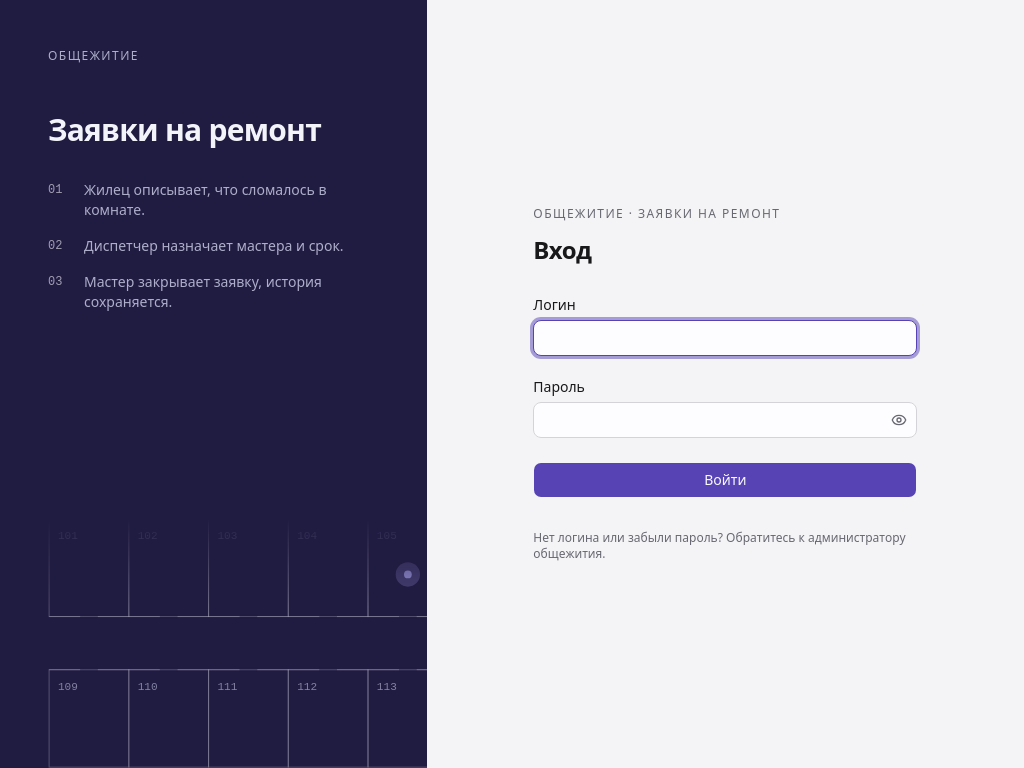
Test: shows network error when the server is unreachable
Step 1. Type "ivan" into the field labelled "Логин" → (725, 338), box left=533, top=320, right=917, bottom=356
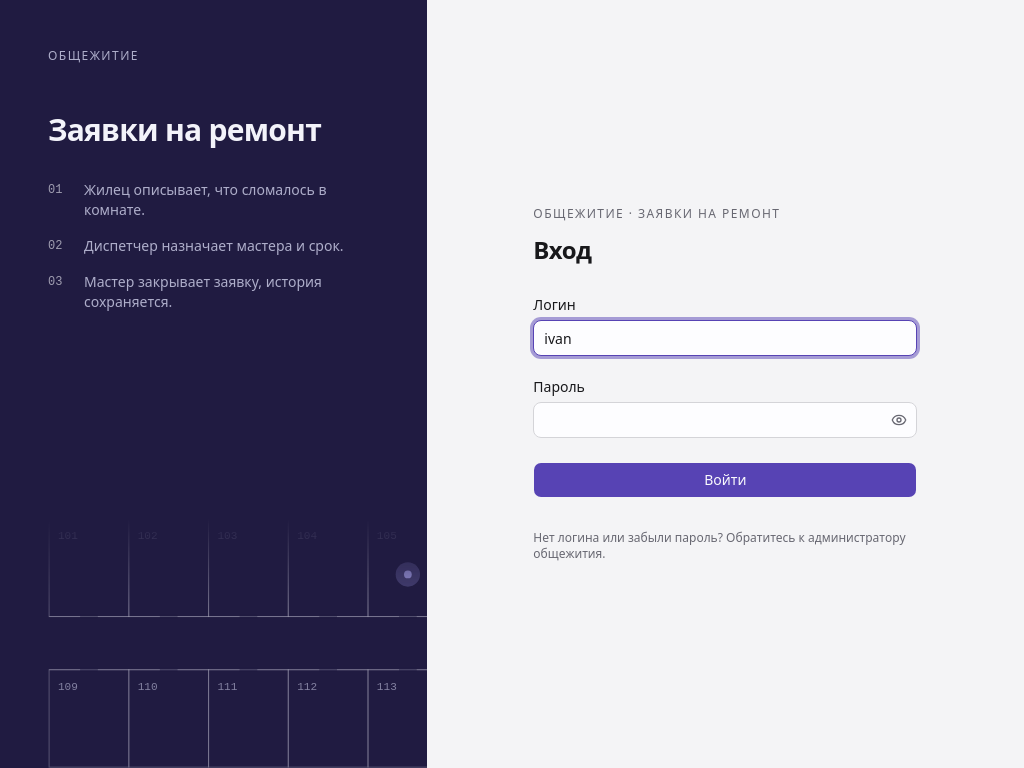
Step 2. Type "secret" into the password field labelled "Пароль" → (725, 420), box left=533, top=402, right=917, bottom=438
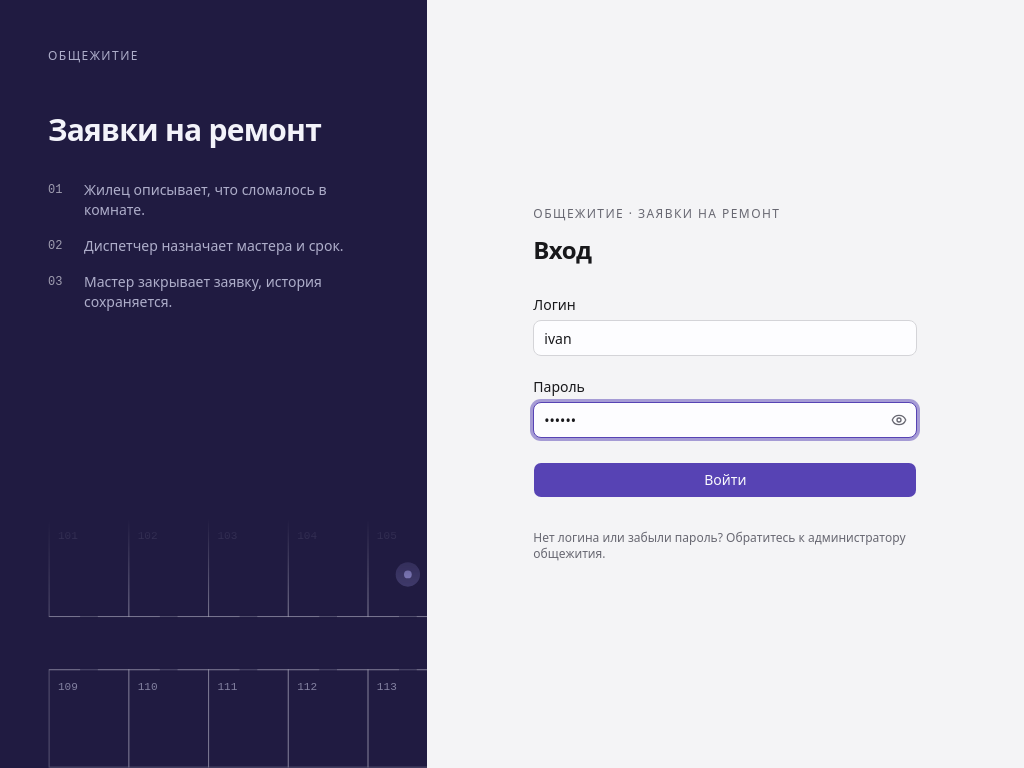
Step 3. Click the button "Войти" → (725, 480), box left=533, top=462, right=917, bottom=498
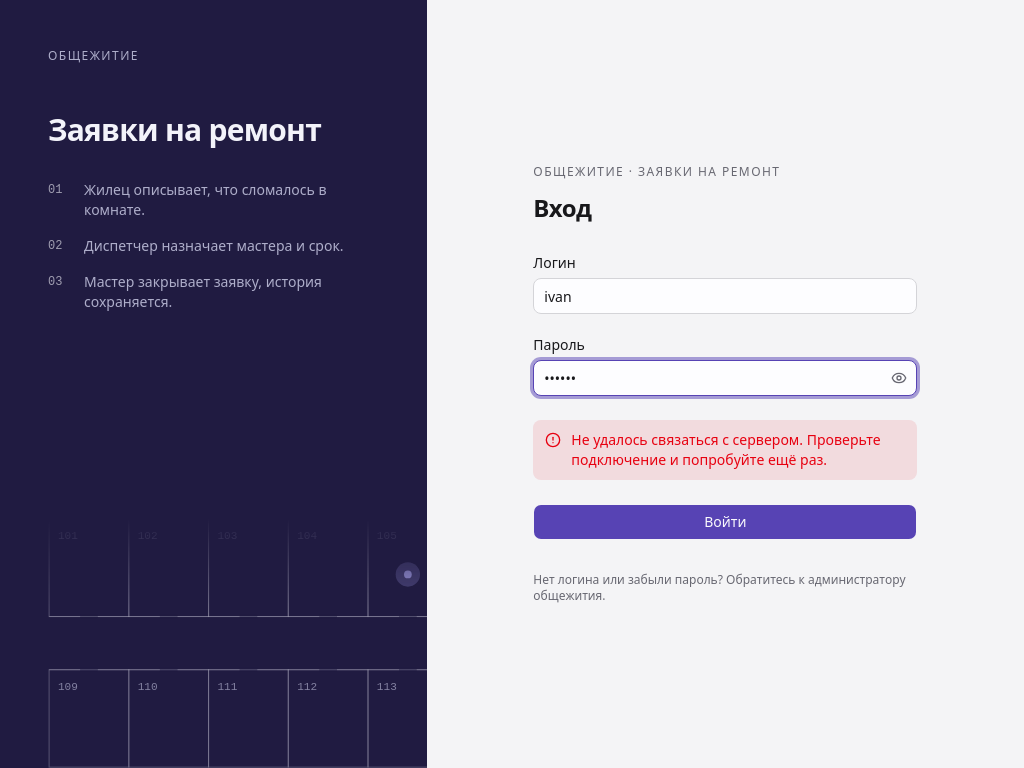
Expected: the message shows "Не удалось связаться с сервером", left=571, top=430, right=881, bottom=469
